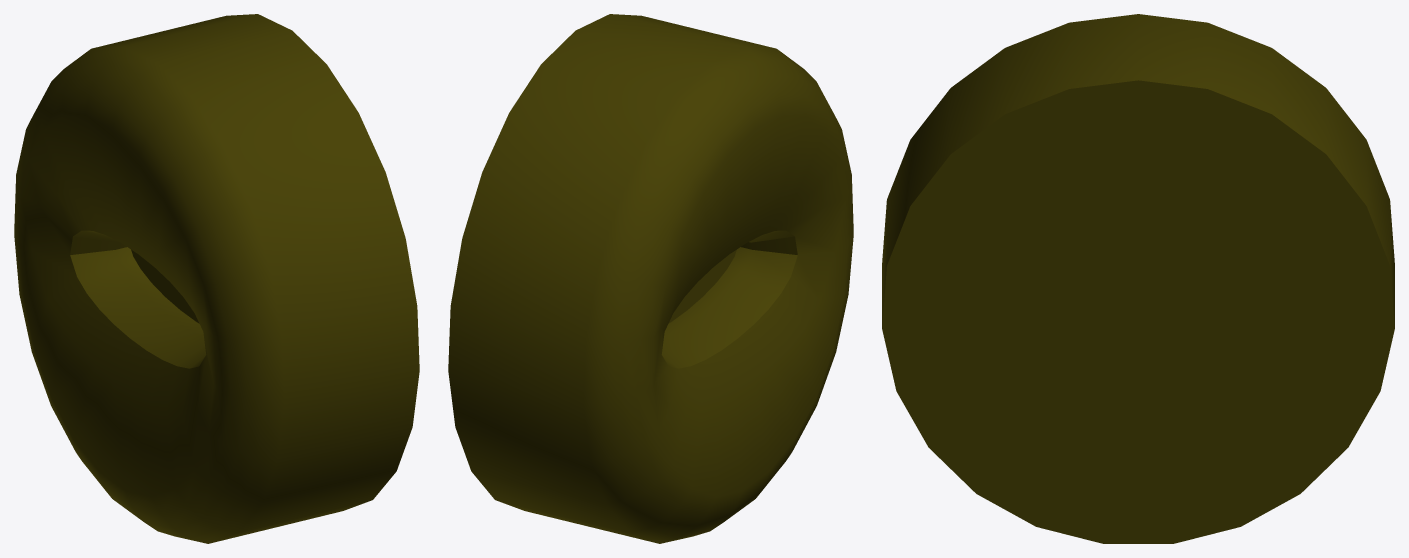
Rendered from CoinLockerKeyHole.fbx.
3 renders of one model, left to right at view 1: azimuth 30°, elevation 25°; view 2: azimuth 150°, elevation 25°; view 3: azimuth 270°, elevation 25°, orthographic.
Parts seen in each view (by area): view 1: Cylinder011; view 2: Cylinder011; view 3: Cylinder011.
Boxes of the visible parts, x1,y1,x2,y2 form: Cylinder011: (14,14,419,543); Cylinder011: (448,14,853,543); Cylinder011: (882,14,1394,543).
Size of the model in its own units: 0.6477 by 1.58 by 1.58.
